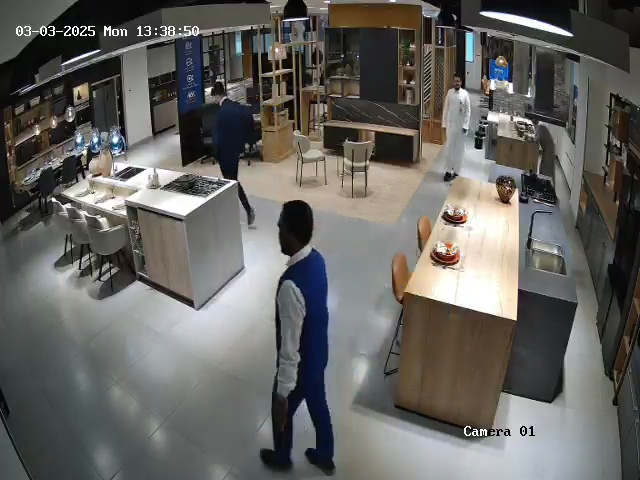employee: (259, 199, 336, 475), (211, 81, 257, 230)
male: (528, 107, 567, 195), (441, 73, 471, 182)
